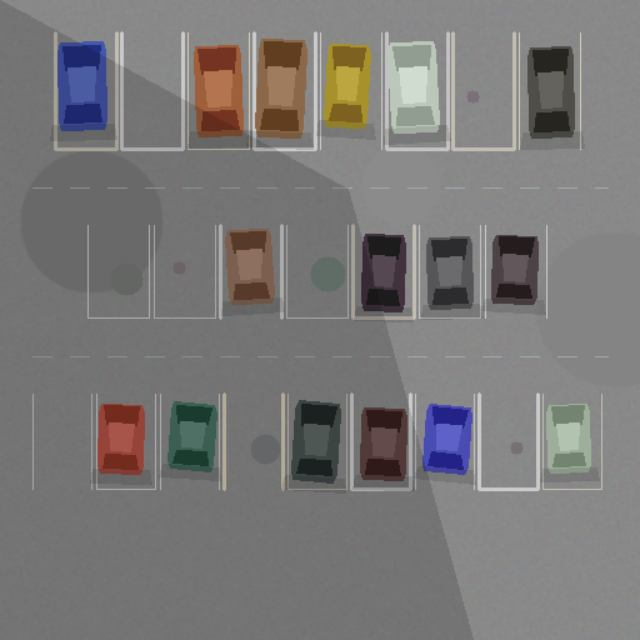space-empty: (121, 33, 183, 149), (453, 33, 514, 149), (87, 225, 149, 317), (154, 225, 215, 317), (286, 225, 347, 317), (224, 394, 283, 489), (33, 394, 91, 489), (479, 394, 537, 489)
space-occupied: (187, 33, 249, 149), (55, 33, 116, 149), (254, 33, 315, 149), (320, 33, 381, 149), (386, 33, 447, 149), (519, 33, 580, 149), (220, 225, 281, 317), (353, 225, 414, 317), (419, 225, 480, 317), (485, 225, 546, 317), (96, 394, 155, 489), (160, 394, 219, 489), (287, 394, 346, 489), (351, 394, 410, 489), (415, 394, 474, 489), (543, 394, 601, 489)
